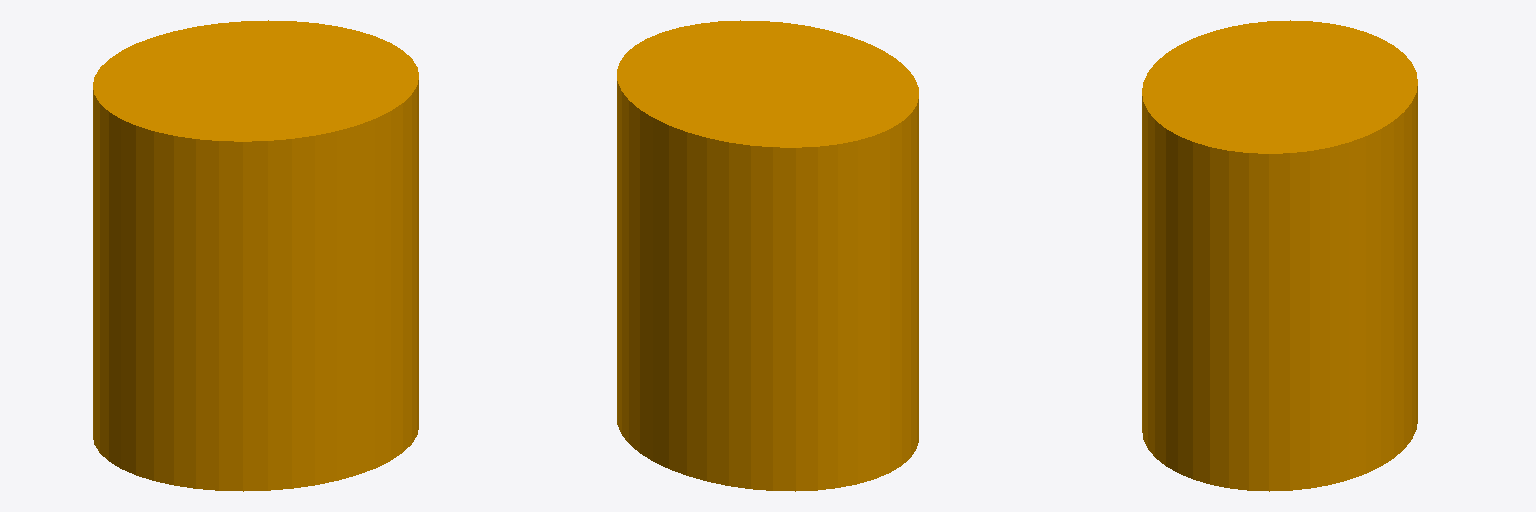
robot.urdf — object:
<?xml version="1.0"?>
<robot name="object">
  <link name="object">
    <visual>
      <origin xyz="0 0 0"/>
      <geometry>
        <mesh filename="meshes/generated/col_068.obj" scale="0.03 0.03 0.03"/>
      </geometry>
    </visual>
    <collision>
      <origin xyz="0 0 0"/>
      <geometry>
        <mesh filename="meshes/generated/col_068.obj" scale="0.03 0.03 0.03"/>
      </geometry>
    </collision>
    <inertial>
      <density value="1000.0"/>
    </inertial>
  </link>
</robot>

--- What the picture shows (computed from the rendered views, not written in the file) ---
Views: 3 orthographic renders of the robot side by side, from view 1: azimuth 30°, elevation 25°; view 2: azimuth 150°, elevation 25°; view 3: azimuth 270°, elevation 25°.
Model object with 1 links and 0 joints (none), rooted at object, posed all joints at 0.
Links seen in each view (by area): view 1: object; view 2: object; view 3: object.
Link boxes in pixels (box(x1,y1,x2,y2)): object: box(93, 20, 418, 491); object: box(617, 20, 918, 491); object: box(1142, 20, 1417, 491).
Bounding box of the posed robot: 0.0509 × 0.0445 × 0.06 m (x, y, z).
Meshes: 1 distinct files referenced, 1 mesh visuals loaded (1 OBJ).
